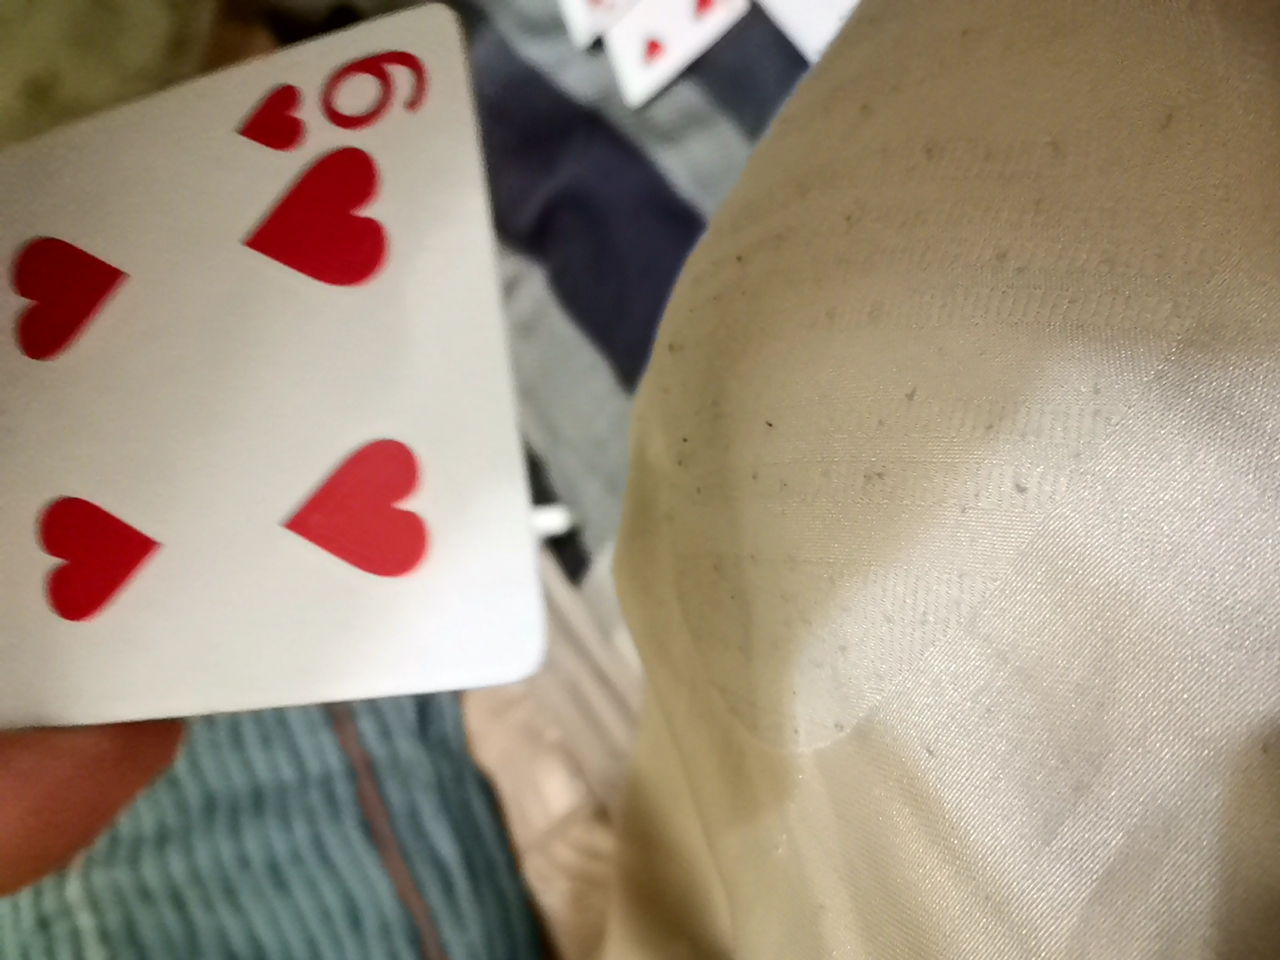hx 6: (11, 14, 556, 744)
